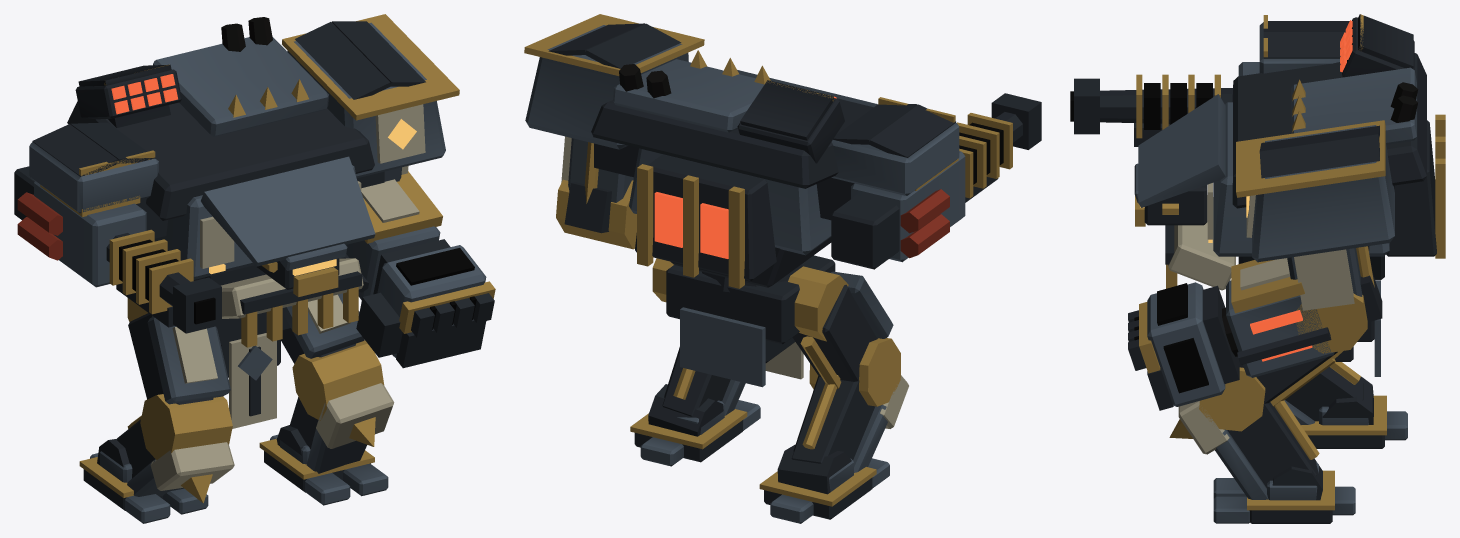
Rendered from harrow.glb.
The picture shows the model from 3 angles, left to right: view 1: azimuth 30°, elevation 25°; view 2: azimuth 150°, elevation 25°; view 3: azimuth 270°, elevation 25°; orthographic projection.
Parts seen in each view (by area): view 1: torso, arm_R, fist_L, thigh_R, thigh_L, shin_L, forearm_L, shin_R, pelvis, rocket_rack, foot_L, foot_R (+3 smaller); view 2: torso, pelvis, arm_R, shin_R, thigh_R, rocket_rack, arm_L, shin_L, foot_L, foot_R, forearm_L, lascannon_glow; view 3: torso, forearm_L, shin_L, fist_L, arm_L, foot_L, arm_R, thigh_L, shin_R, rocket_rack, foot_R, fist_glow (+3 smaller).
Boxes of the visible parts, bbox=[...] form: torso: bbox=[29, 14, 459, 347]; arm_R: bbox=[14, 166, 221, 333]; fist_L: bbox=[356, 239, 495, 368]; thigh_R: bbox=[128, 313, 232, 459]; thigh_L: bbox=[281, 293, 384, 420]; shin_L: bbox=[276, 383, 394, 473]; forearm_L: bbox=[339, 171, 442, 300]; shin_R: bbox=[97, 415, 234, 503]; pelvis: bbox=[127, 298, 291, 428]; rocket_rack: bbox=[75, 64, 181, 127]; foot_L: bbox=[259, 434, 388, 505]; foot_R: bbox=[79, 451, 208, 523]; torso: bbox=[524, 14, 959, 288]; pelvis: bbox=[652, 255, 848, 387]; arm_R: bbox=[831, 93, 1041, 269]; shin_R: bbox=[777, 375, 908, 494]; thigh_R: bbox=[792, 271, 900, 406]; rocket_rack: bbox=[737, 80, 844, 163]; arm_L: bbox=[556, 136, 636, 249]; shin_L: bbox=[648, 347, 745, 436]; foot_L: bbox=[630, 400, 760, 466]; foot_R: bbox=[759, 458, 889, 523]; forearm_L: bbox=[564, 182, 611, 233]; lascannon_glow: bbox=[959, 122, 1003, 184]; torso: bbox=[1138, 15, 1445, 290]; forearm_L: bbox=[1226, 258, 1382, 377]; shin_L: bbox=[1169, 400, 1322, 500]; fist_L: bbox=[1128, 282, 1239, 410]; arm_L: bbox=[1287, 246, 1374, 353]; foot_L: bbox=[1213, 462, 1355, 523]; arm_R: bbox=[1074, 62, 1259, 146]; thigh_L: bbox=[1199, 351, 1337, 431]; shin_R: bbox=[1284, 362, 1373, 424]; rocket_rack: bbox=[1340, 14, 1414, 77]; foot_R: bbox=[1301, 395, 1407, 448]; fist_glow: bbox=[1134, 283, 1208, 393].
Bounding box in the file's own units: 41.75 × 43.64 × 35.9.
